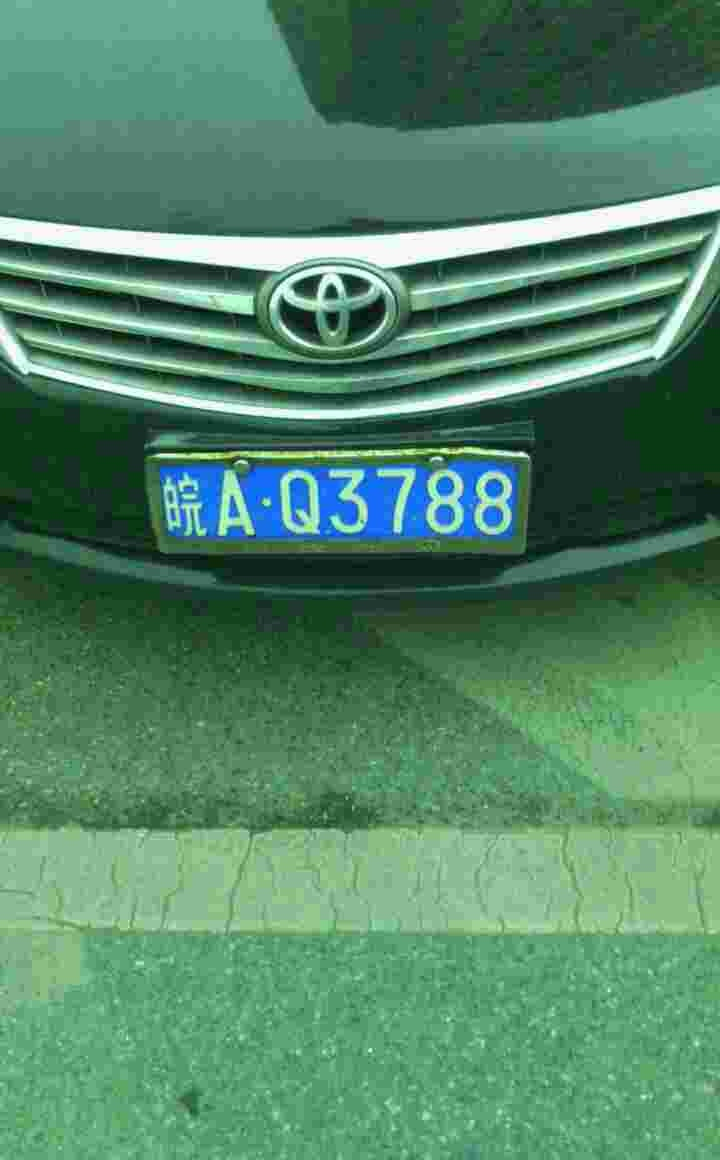license_plate: (150, 463, 538, 547)
